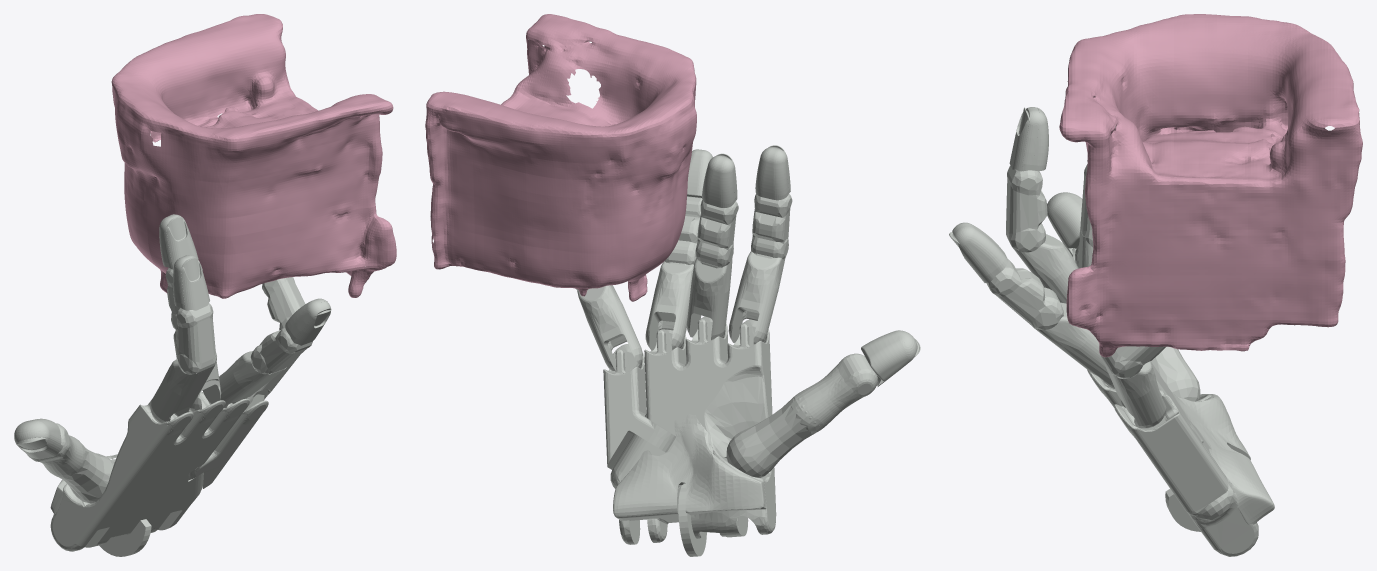
The picture shows the model from 3 angles, left to right: view 1: azimuth 30°, elevation 25°; view 2: azimuth 150°, elevation 25°; view 3: azimuth 270°, elevation 25°; orthographic projection. The views are drawn at different scales.
Parts seen in each view (by area): view 1: world, hand; view 2: hand, world; view 3: world, hand.
Part boxes in pixels (x1,y1,x2,y2): world: (111, 14, 396, 298); hand: (14, 214, 331, 556); hand: (576, 145, 920, 556); world: (425, 14, 696, 301); world: (1059, 14, 1362, 357); hand: (949, 107, 1274, 556).
Bounding box in the file's own units: 0.2251 × 0.2523 × 0.1775.
